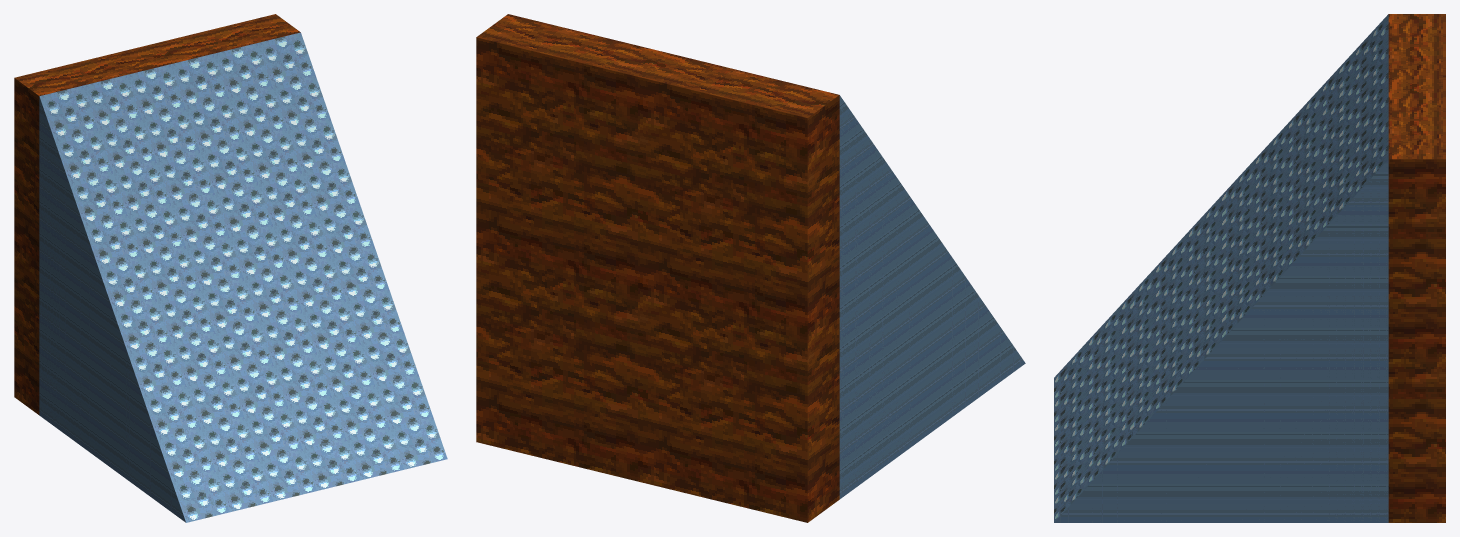
Rendered from fm_battan.glb.
The picture shows the model from 3 angles, left to right: view 1: azimuth 30°, elevation 25°; view 2: azimuth 150°, elevation 25°; view 3: azimuth 270°, elevation 25°; orthographic projection. The views are drawn at different scales.
Parts seen in each view (by area): view 1: fm_battan; view 2: fm_battan; view 3: fm_battan.
Boxes of the visible parts, x1,y1,x2,y2 form: fm_battan: [14, 14, 447, 522]; fm_battan: [476, 14, 1025, 522]; fm_battan: [1054, 14, 1445, 522].
Bounding box in the file's own units: 4.69 × 5.47 × 5.34.
Materials: 2 (2 with a texture image).
